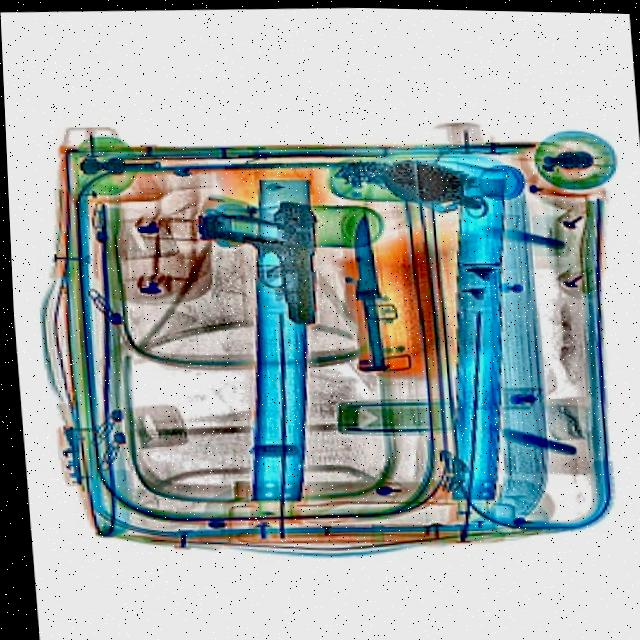grenade: (383, 155, 481, 211)
knife: (337, 212, 391, 380)
pistol: (194, 197, 322, 327)
